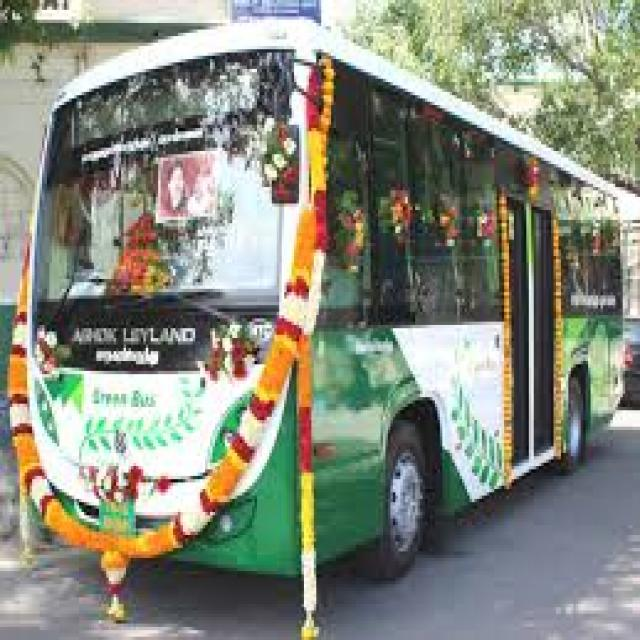BUS: (10, 29, 635, 624)
